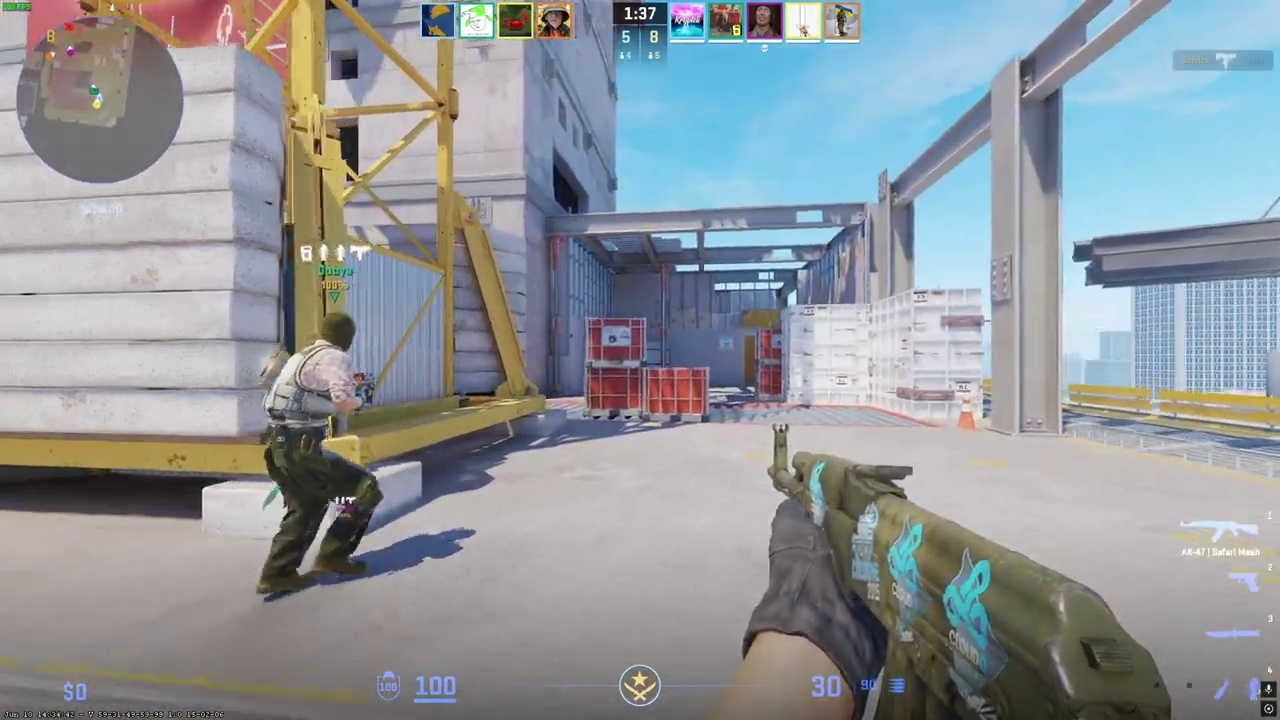Terrorist: (256, 311, 384, 594)
